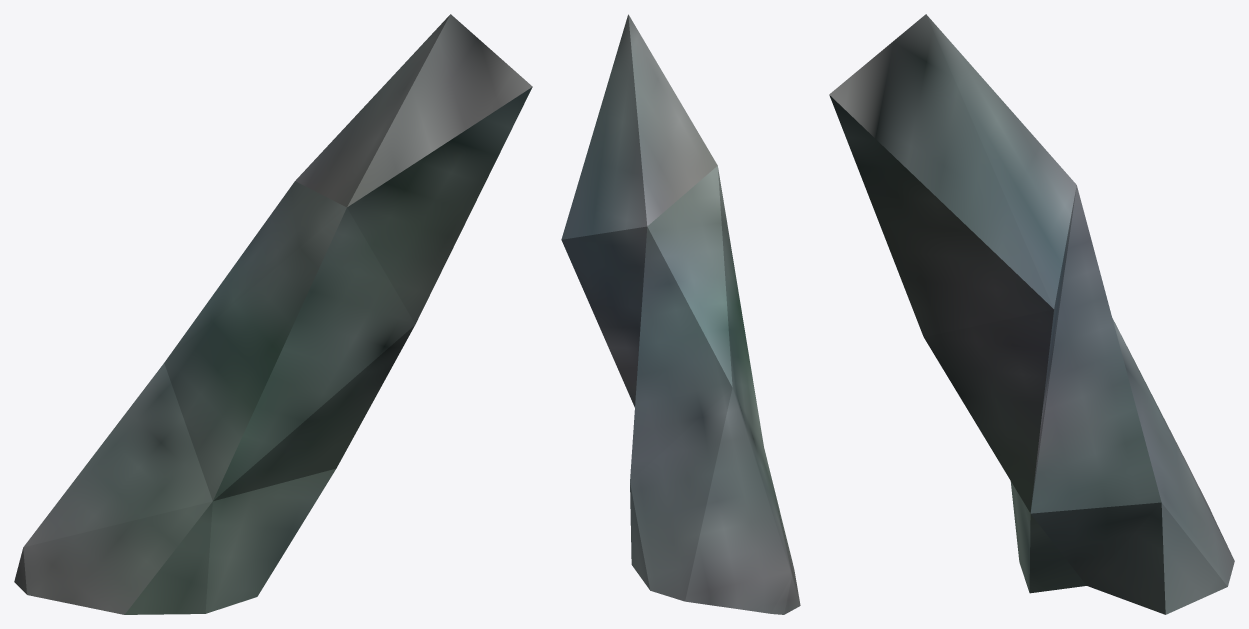
3 renders of one model, left to right at view 1: azimuth 30°, elevation 25°; view 2: azimuth 150°, elevation 25°; view 3: azimuth 270°, elevation 25°, orthographic. The views are drawn at different scales.
Bounding box in the file's own units: 0.0381 × 0.059 × 0.0328.
1 material, 1 textured.
